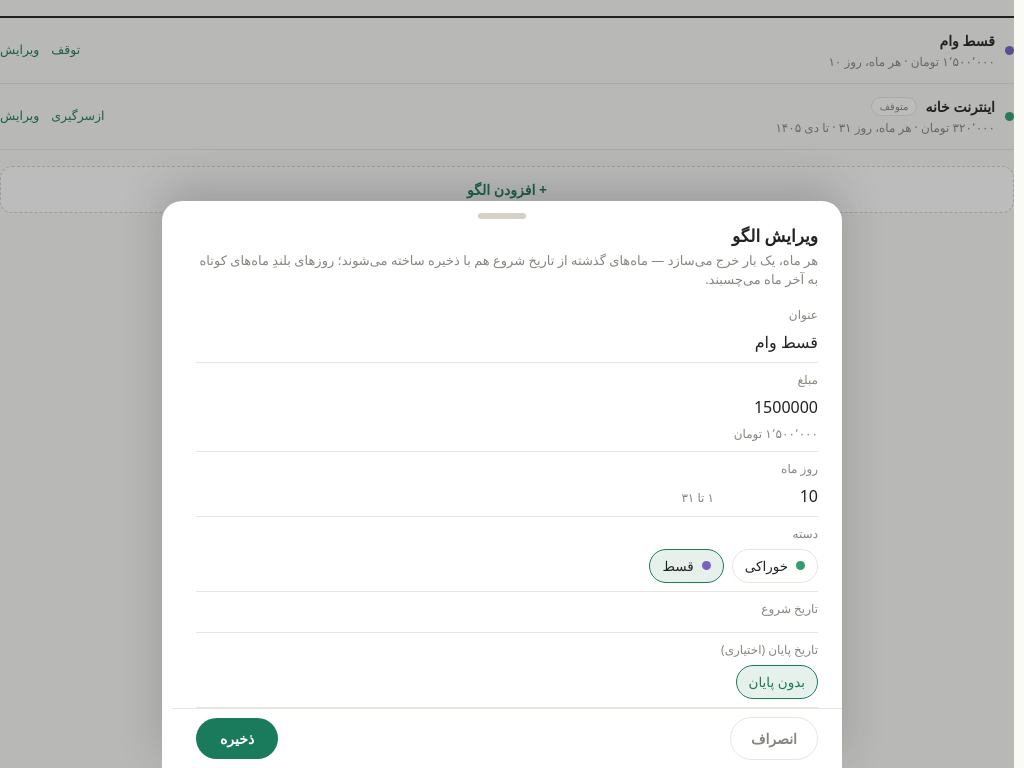
the ?edit= deep-link (decision 15: forecast row → edit sheet) › opens that template's edit sheet once, then strips itself
The width and height of the screenshot is (1024, 768).
Expected: the dialog is shown, [162, 201, 842, 767]
Expected: the field labelled "عنوان" holds "قسط وام", [196, 330, 818, 354]
Click the button "انصراف" at (774, 738), box [730, 717, 818, 760]
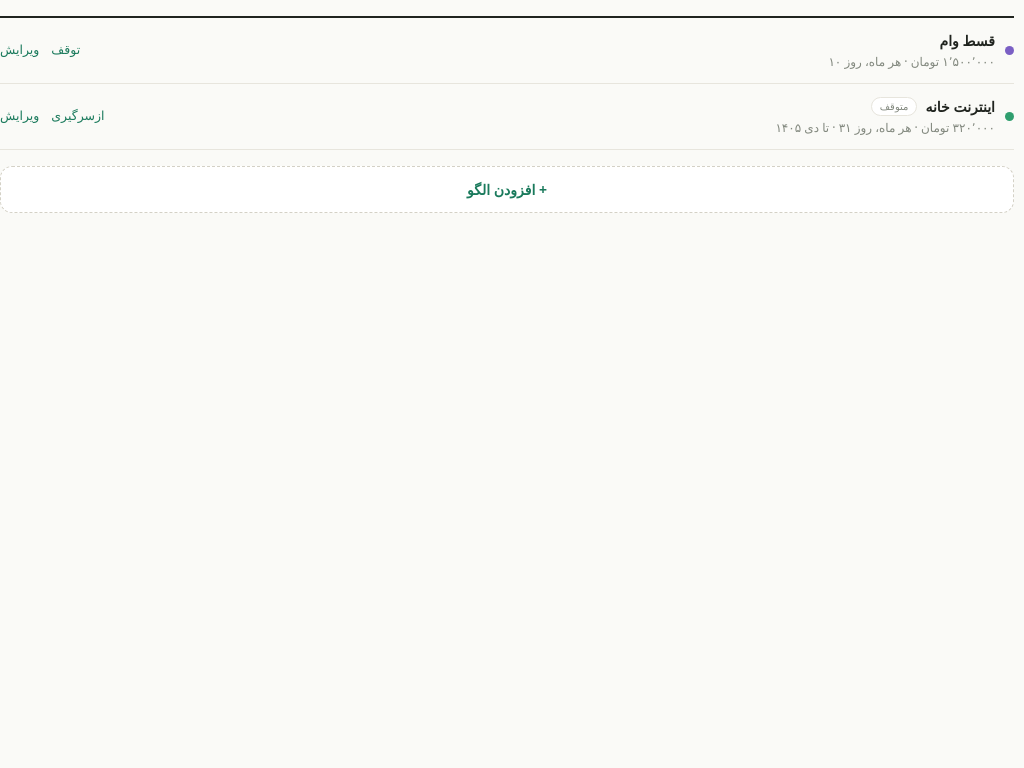
Now the dialog is gone
